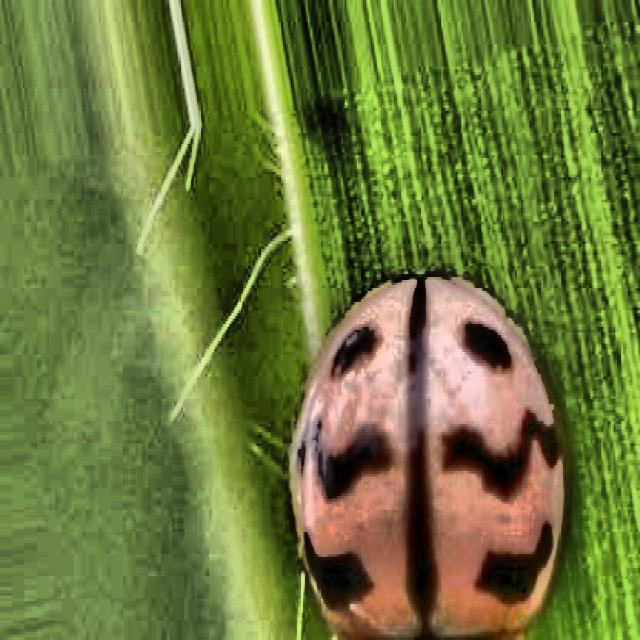Asian-Lady-beetle: (234, 260, 640, 640)
